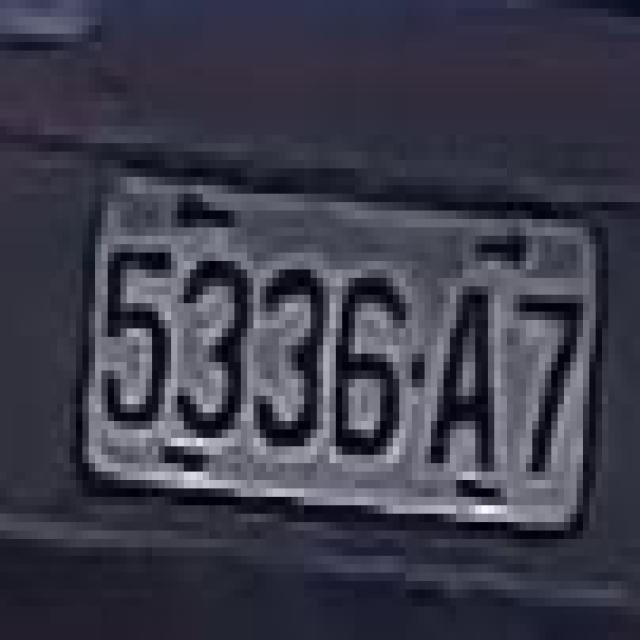license-plate: (89, 137, 613, 579)
